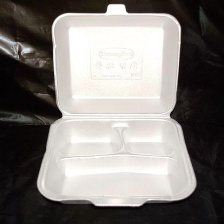foam_box: (27, 0, 203, 212)
